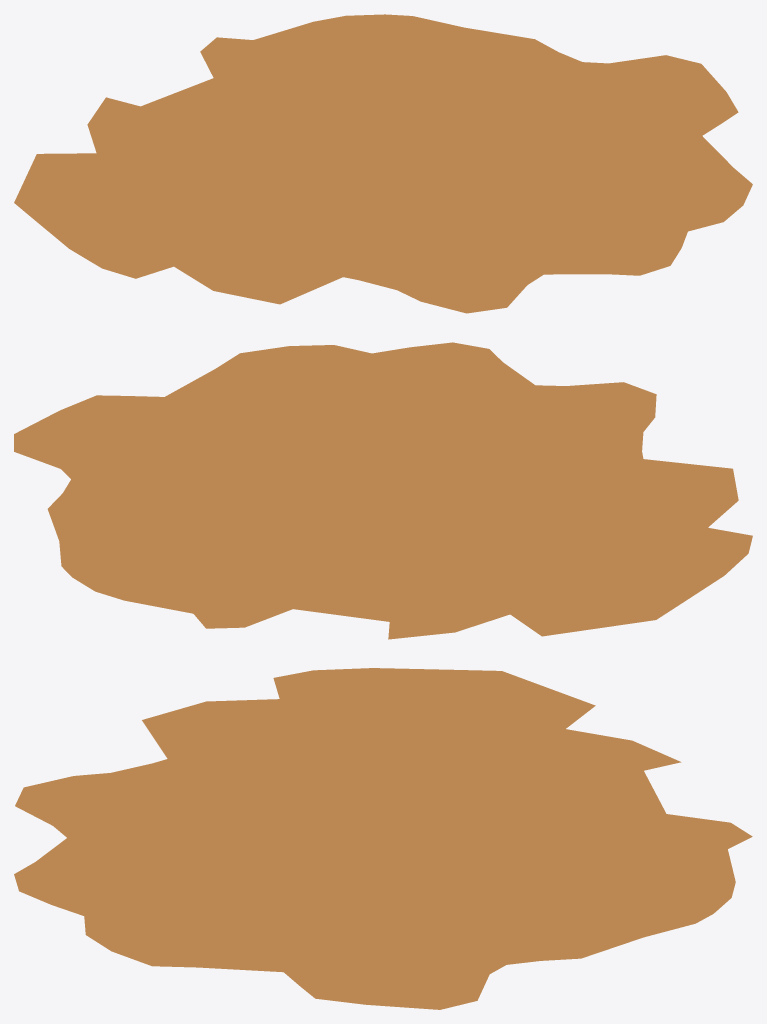
The model's file is Stains.1.fbx.
3 views of the same model, one above another, from view 1: azimuth 30°, elevation 25°; view 2: azimuth 150°, elevation 25°; view 3: azimuth 270°, elevation 25° (orthographic). The views are drawn at different scales.
Parts seen in each view (by area): view 1: Plane; view 2: Plane; view 3: Plane.
Part boxes in pixels (x1,y1,x2,y2): Plane: [14, 14, 752, 313]; Plane: [14, 342, 752, 639]; Plane: [14, 668, 752, 1009].
Bounding box in the file's own units: 151 × 6.85e-05 × 138.
